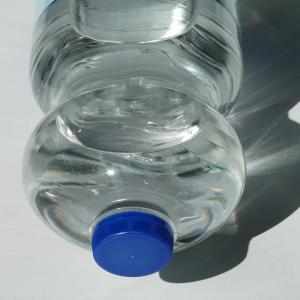Plastic-bottle: (21, 2, 249, 279)
